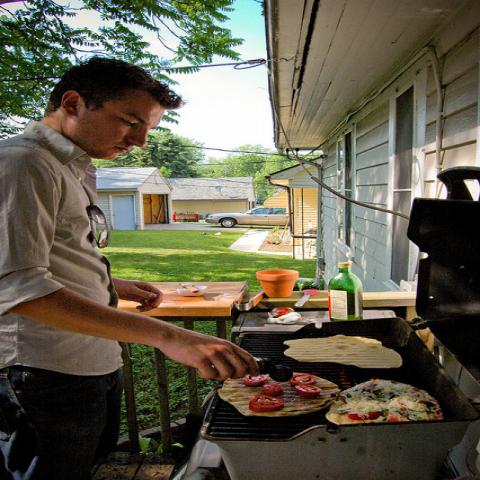car: (205, 206, 290, 228)
